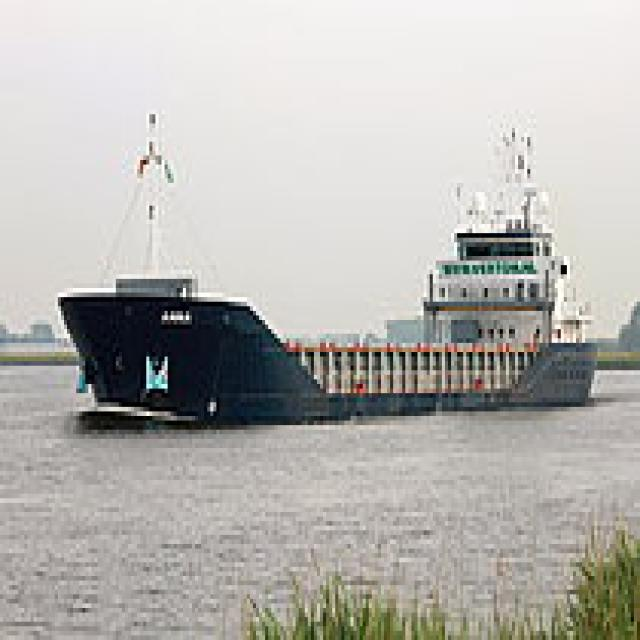Cargo: (52, 100, 597, 420)
